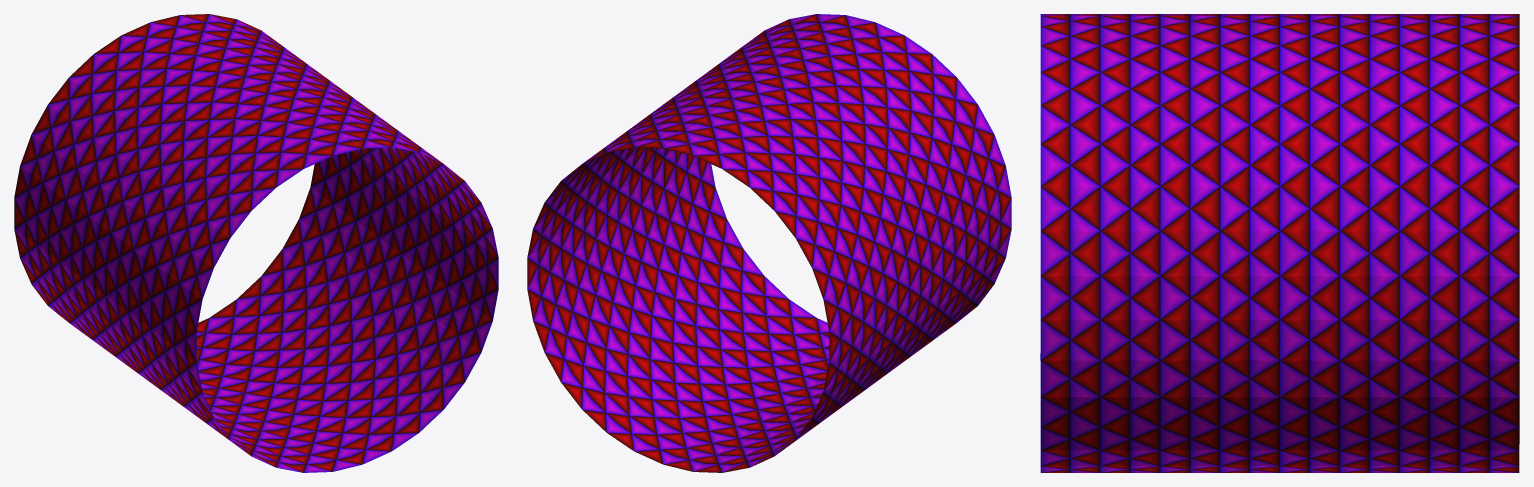
Rendered from bgtriangles.dae.
3 views of the same model, side by side, from view 1: azimuth 30°, elevation 25°; view 2: azimuth 150°, elevation 25°; view 3: azimuth 270°, elevation 25° (orthographic). The views are drawn at different scales.
Visible parts, largest first — view 1: Circle_001; view 2: Circle_001; view 3: Circle_001.
Part boxes in pixels (<box>): Circle_001: <box>14,14,498,472</box>; Circle_001: <box>527,14,1011,472</box>; Circle_001: <box>1040,14,1519,472</box>.
Bounding box in the file's own units: 191 × 200 × 191.
